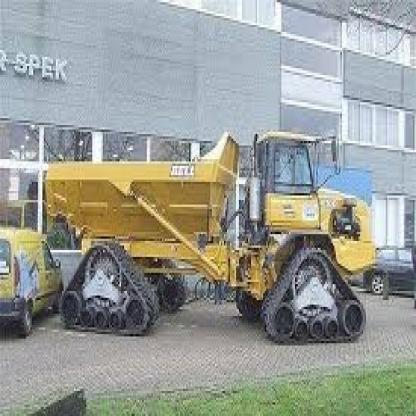dump_truck: (42, 118, 383, 357)
